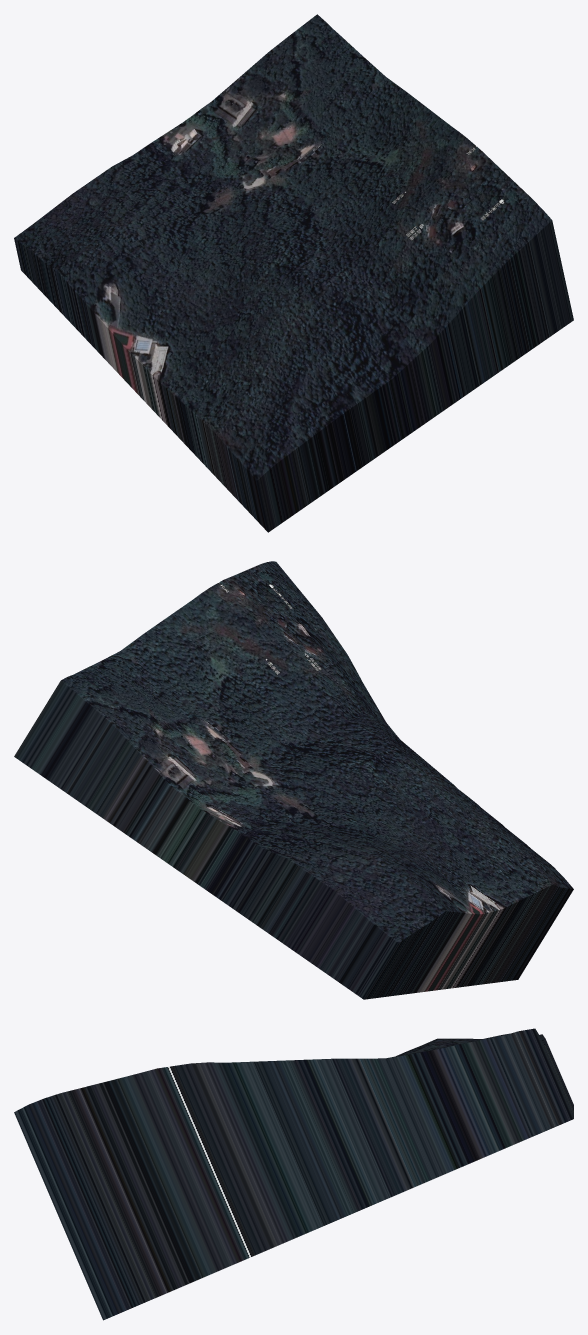
3 views of the same model, one above another, from view 1: azimuth 30°, elevation 25°; view 2: azimuth 150°, elevation 25°; view 3: azimuth 270°, elevation 25° (orthographic). The views are drawn at different scales.
Parts seen in each view (by area): view 1: 0_0_19; view 2: 0_0_19; view 3: 0_0_19.
Boxes of the visible parts, x1=… form: 0_0_19: x1=14, y1=14, x2=573, y2=532; 0_0_19: x1=14, y1=561, x2=573, y2=999; 0_0_19: x1=14, y1=1028, x2=573, y2=1320.
Bounding box in the file's own units: 623 × 524 × 644.
Materials: 1 (1 with a texture image).
